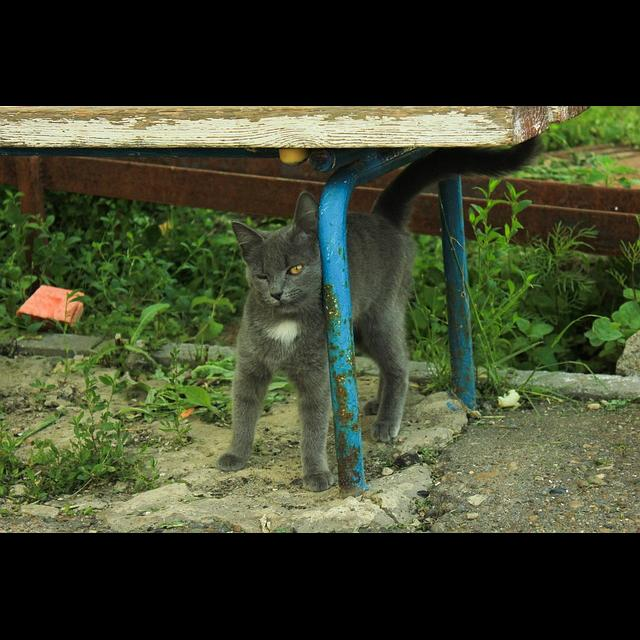animals: (348, 133, 550, 446), (217, 196, 334, 494)
